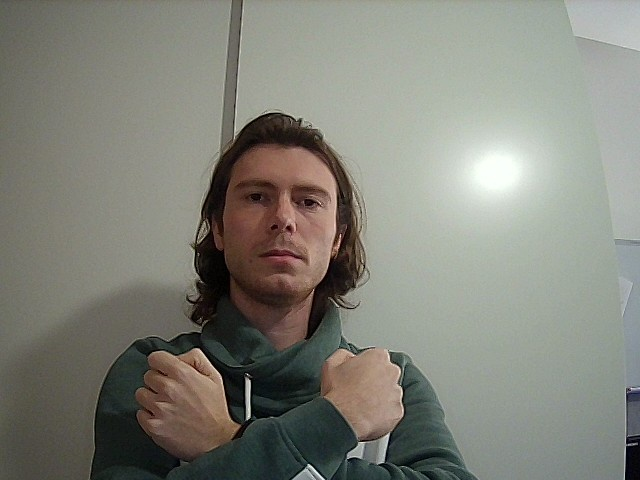del: (129, 325, 415, 480)
